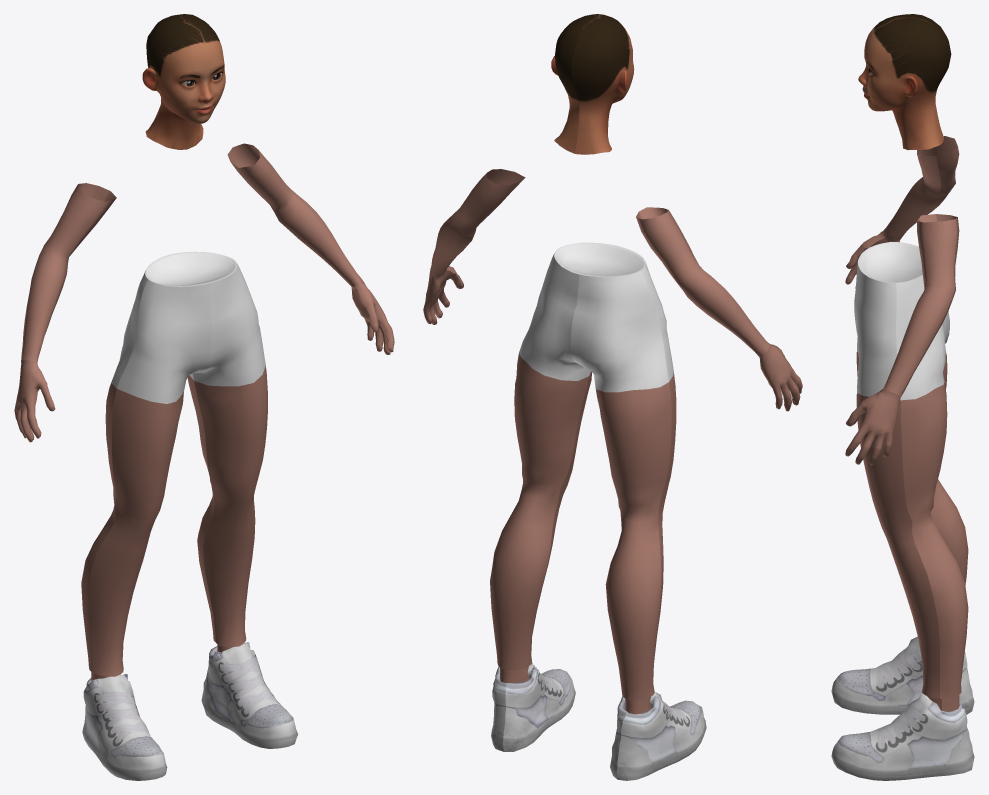
File: Base girl.fbx
3 renders of one model, left to right at view 1: azimuth 30°, elevation 25°; view 2: azimuth 150°, elevation 25°; view 3: azimuth 270°, elevation 25°, orthographic.
Parts seen in each view (by area): view 1: Base girl; view 2: Base girl; view 3: Base girl.
Part boxes in pixels (left/top/right/bottom): Base girl: left=14, top=14, right=394, bottom=780; Base girl: left=423, top=14, right=802, bottom=780; Base girl: left=831, top=14, right=974, bottom=780.
Bounding box in the file's own units: 92.79 × 174 × 31.34.
6 materials, 5 textured.
